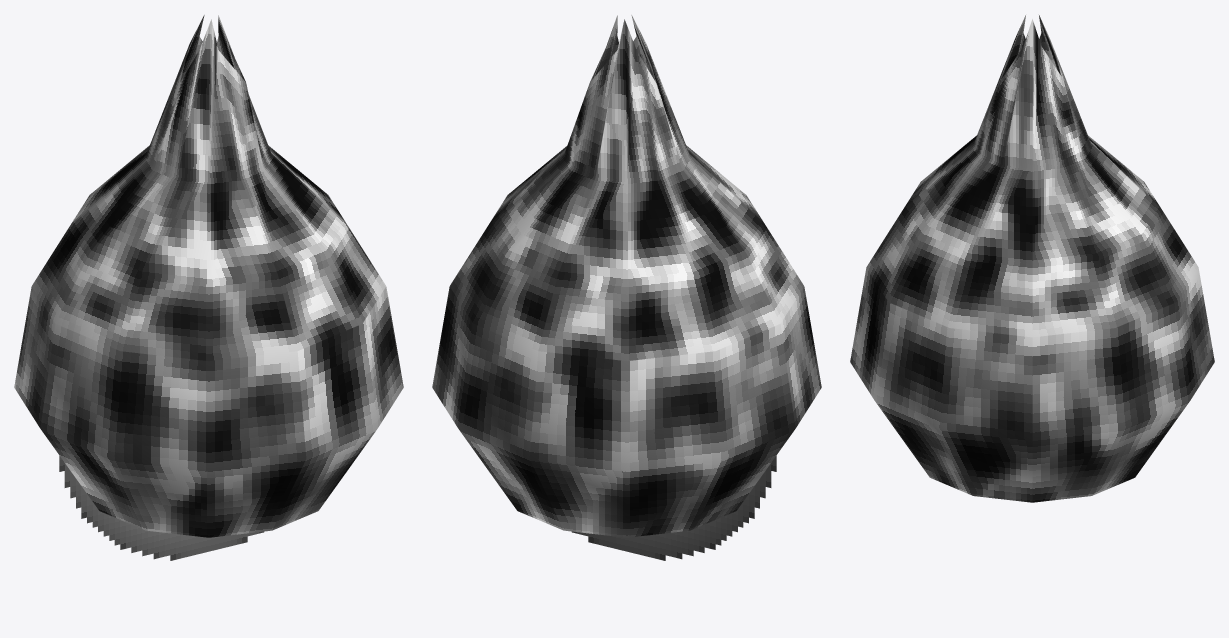
File: kpfirebar1fire.dae
3 views of the same model, side by side, from view 1: azimuth 30°, elevation 25°; view 2: azimuth 150°, elevation 25°; view 3: azimuth 270°, elevation 25° (orthographic). The views are drawn at different scales.
Visible parts, largest first — view 1: n0b0, n1b1; view 2: n0b0, n1b1; view 3: n0b0.
Part boxes in pixels (left/top/right/bottom): n0b0: left=14, top=15, right=403, bottom=537; n1b1: left=59, top=455, right=263, bottom=560; n0b0: left=432, top=15, right=821, bottom=537; n1b1: left=572, top=455, right=776, bottom=560; n0b0: left=850, top=15, right=1214, bottom=502.
Size of the model in its own units: 248 by 377 by 236.
3 materials, 3 textured.
